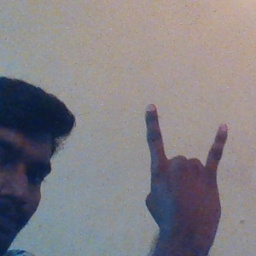V: (135, 99, 232, 235)
